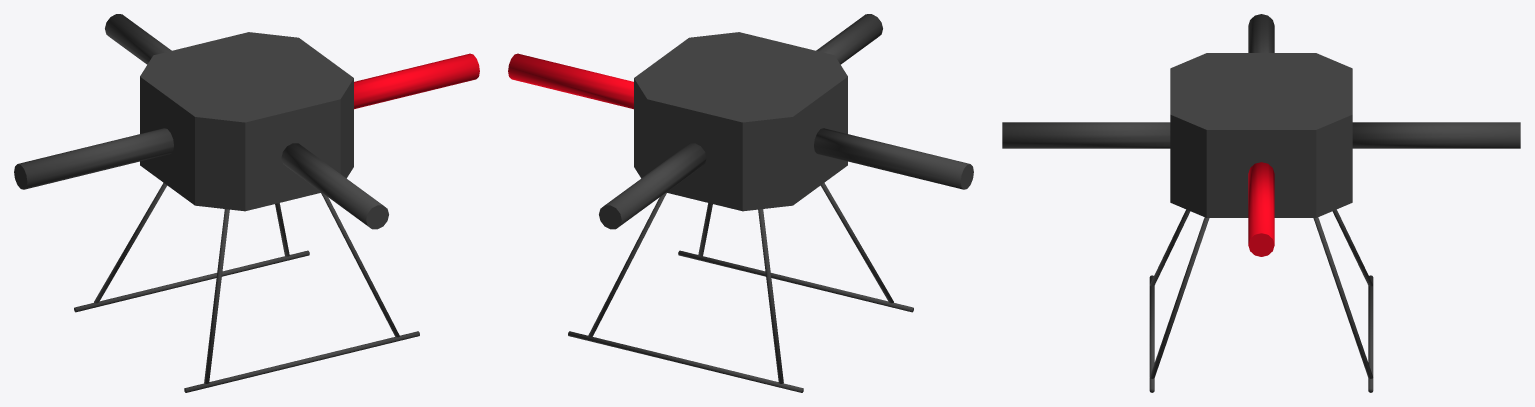
The model's file is quadrotor_baseNoProp.dae.
3 renders of one model, left to right at view 1: azimuth 30°, elevation 25°; view 2: azimuth 150°, elevation 25°; view 3: azimuth 270°, elevation 25°, orthographic.
Parts seen in each view (by area): view 1: MainBody_002; view 2: MainBody_002; view 3: MainBody_002.
Boxes of the visible parts, box(x1,y1,x2,y2) form: MainBody_002: box(14, 14, 479, 392); MainBody_002: box(508, 14, 973, 392); MainBody_002: box(1002, 14, 1520, 392).
Size of the model in its own units: 0.4268 by 0.4268 by 0.2225.
